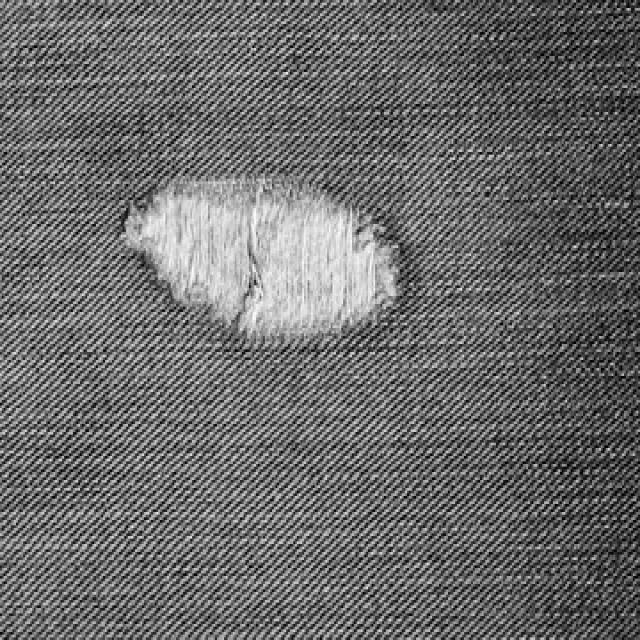Hole: (125, 178, 398, 341)
